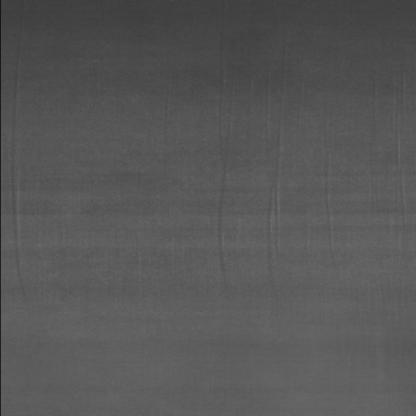waist_folding: (53, 89, 396, 356)
